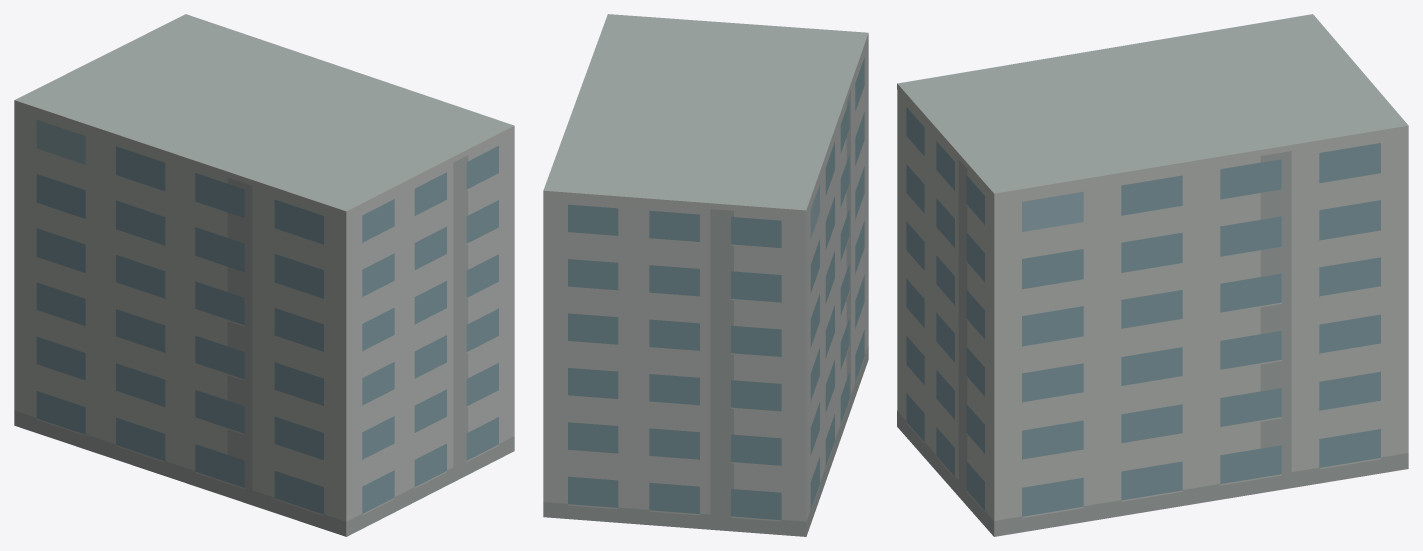
Rendered from survey-upis-32944135.glb.
3 renders of one model, left to right at view 1: azimuth 30°, elevation 25°; view 2: azimuth 150°, elevation 25°; view 3: azimuth 270°, elevation 25°, orthographic. The views are drawn at different scales.
Parts seen in each view (by area): view 1: survey-upis-32944135.tmp; view 2: survey-upis-32944135.tmp; view 3: survey-upis-32944135.tmp.
Boxes of the visible parts, left/top/right/bottom form: survey-upis-32944135.tmp: left=14, top=14, right=514, bottom=536; survey-upis-32944135.tmp: left=543, top=14, right=868, bottom=536; survey-upis-32944135.tmp: left=897, top=14, right=1408, bottom=536.
Bounding box in the file's own units: 15.39 × 13.7 × 18.51.
